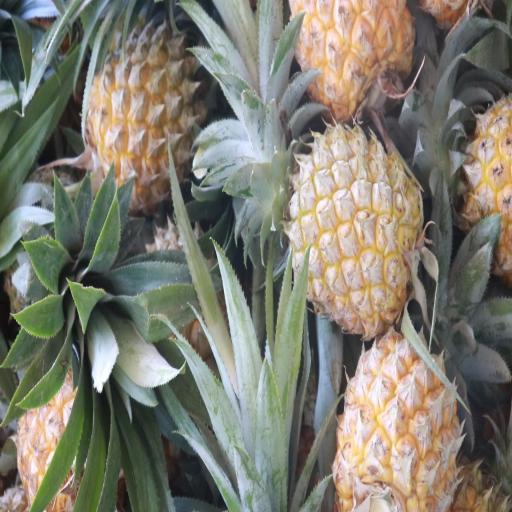------------------------------: (81, 29, 205, 202)
Pineapple - v8 v1: (289, 125, 421, 332), (332, 324, 462, 512), (428, 58, 512, 257), (296, 0, 414, 114)
